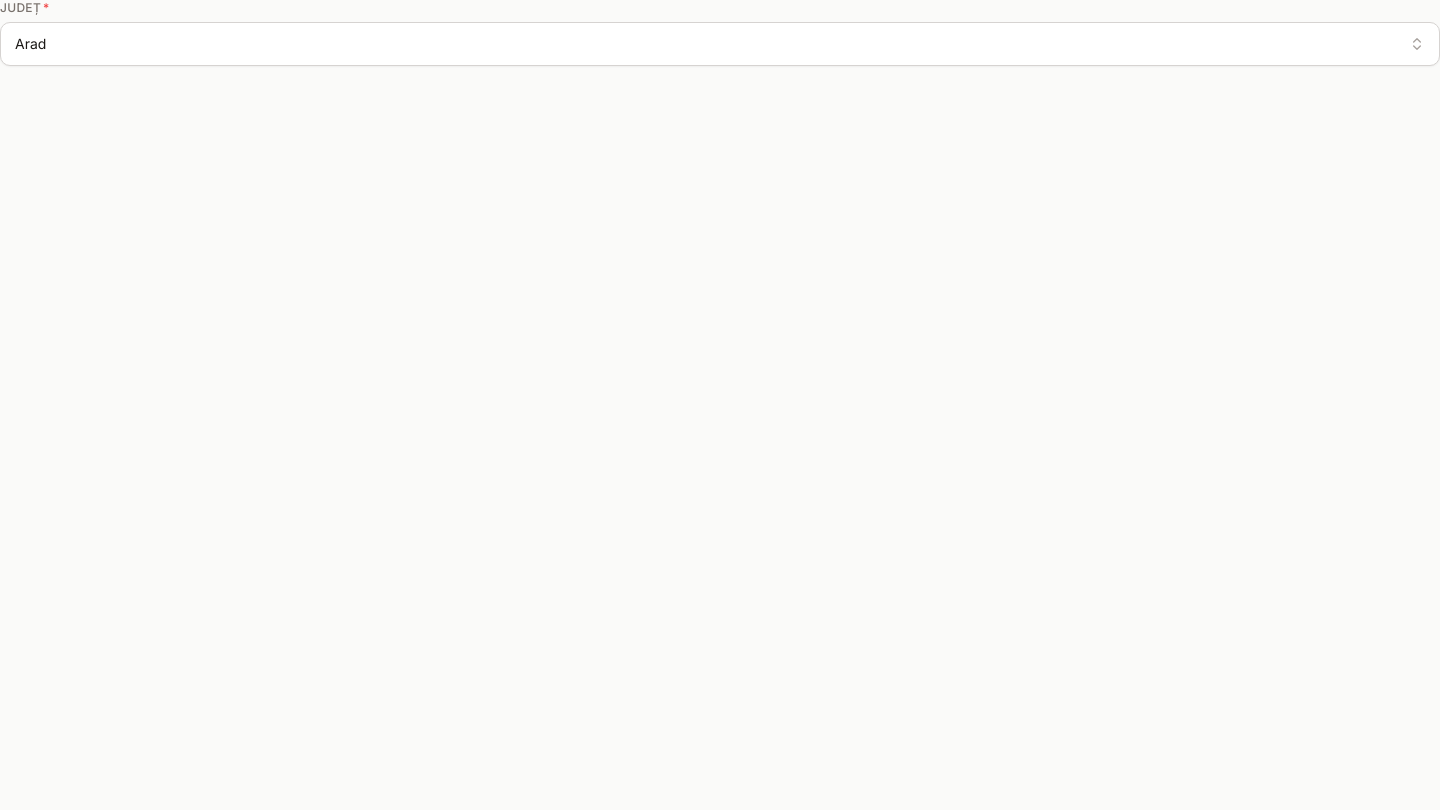
Test: marks the chosen option with a check icon
Click the dropdown named "Județ": [31, 44] box [0, 22, 1439, 66]
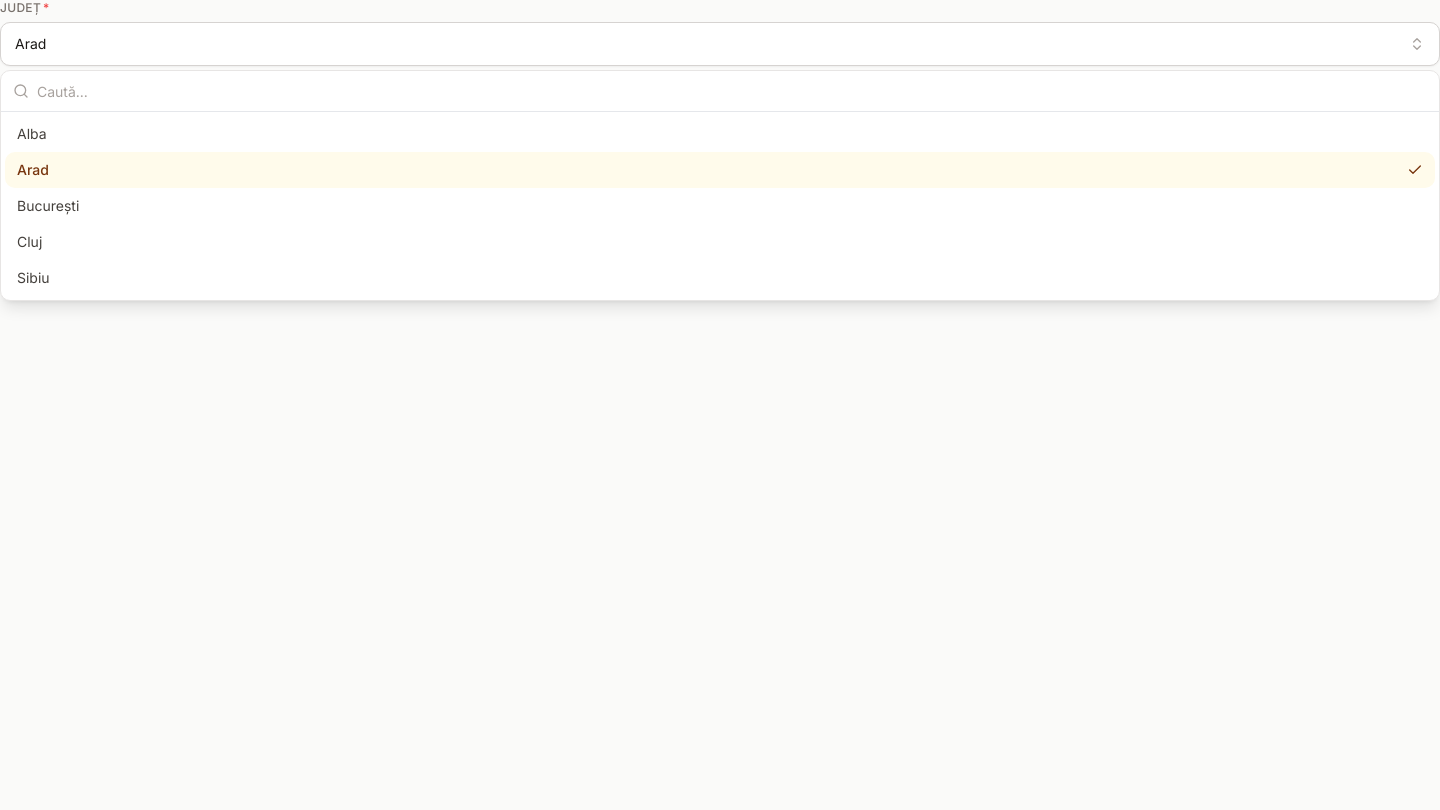
Now the 3rd icon is shown, box [1407, 162, 1423, 178]
